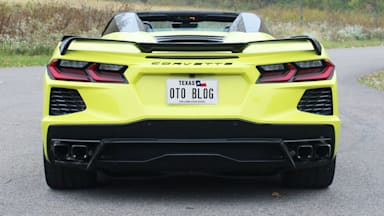licence: (165, 78, 219, 104)
